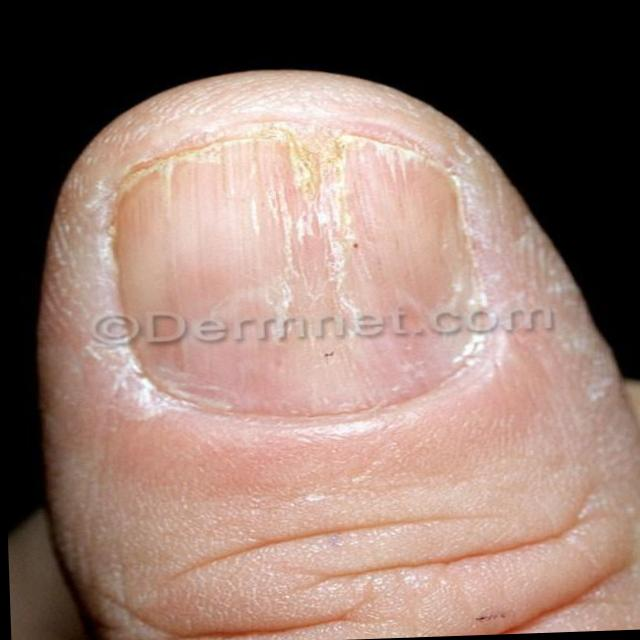Nail: (105, 132, 493, 419)
